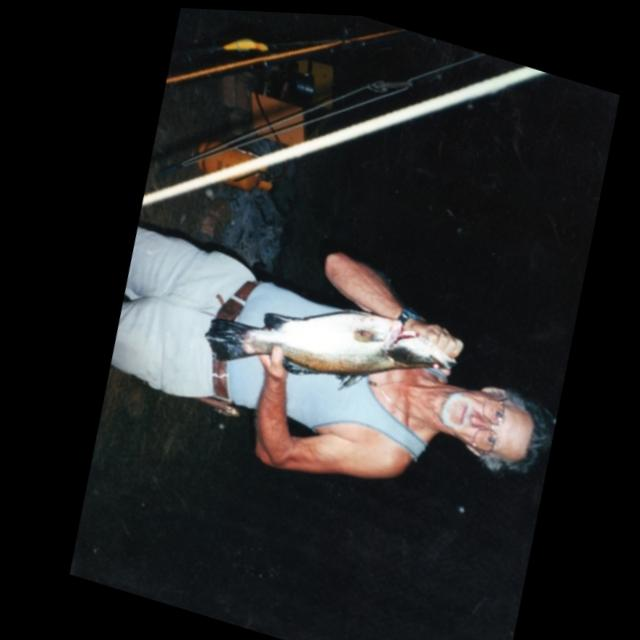Seabass: (193, 262, 469, 433)
